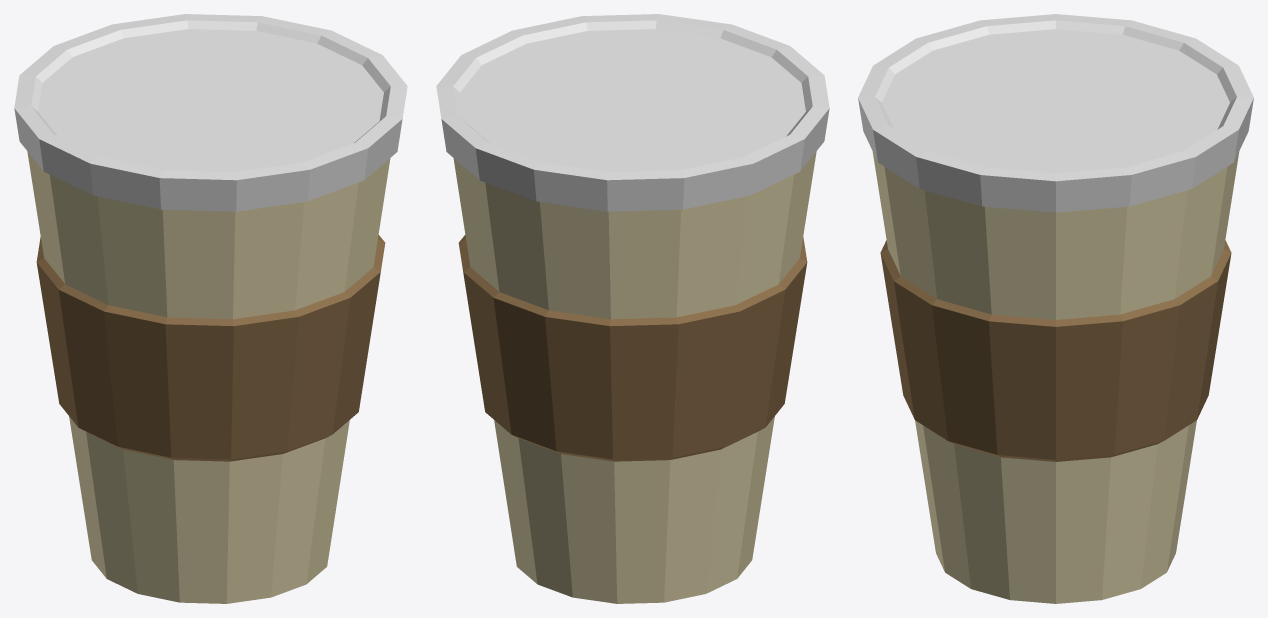
The model's file is Cafe cup.fbx.
3 renders of one model, left to right at view 1: azimuth 30°, elevation 25°; view 2: azimuth 150°, elevation 25°; view 3: azimuth 270°, elevation 25°, orthographic.
Visible parts, largest first — view 1: Cafe_cup.002; view 2: Cafe_cup.002; view 3: Cafe_cup.002.
Part boxes in pixels (box(x1,y1,x2,y2)): Cafe_cup.002: box(14, 14, 407, 603); Cafe_cup.002: box(436, 14, 829, 603); Cafe_cup.002: box(858, 14, 1253, 603).
Size of the model in its own units: 11.46 by 14.58 by 11.46.
